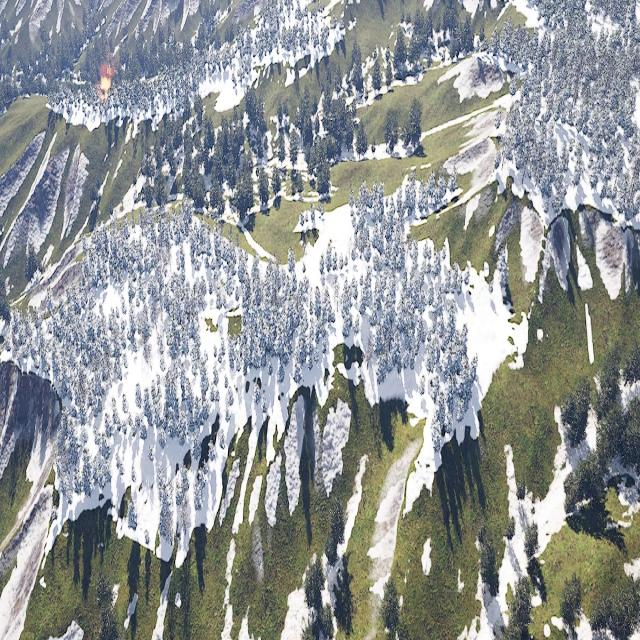fire: (99, 69, 114, 95)
smoke: (102, 46, 121, 73)
